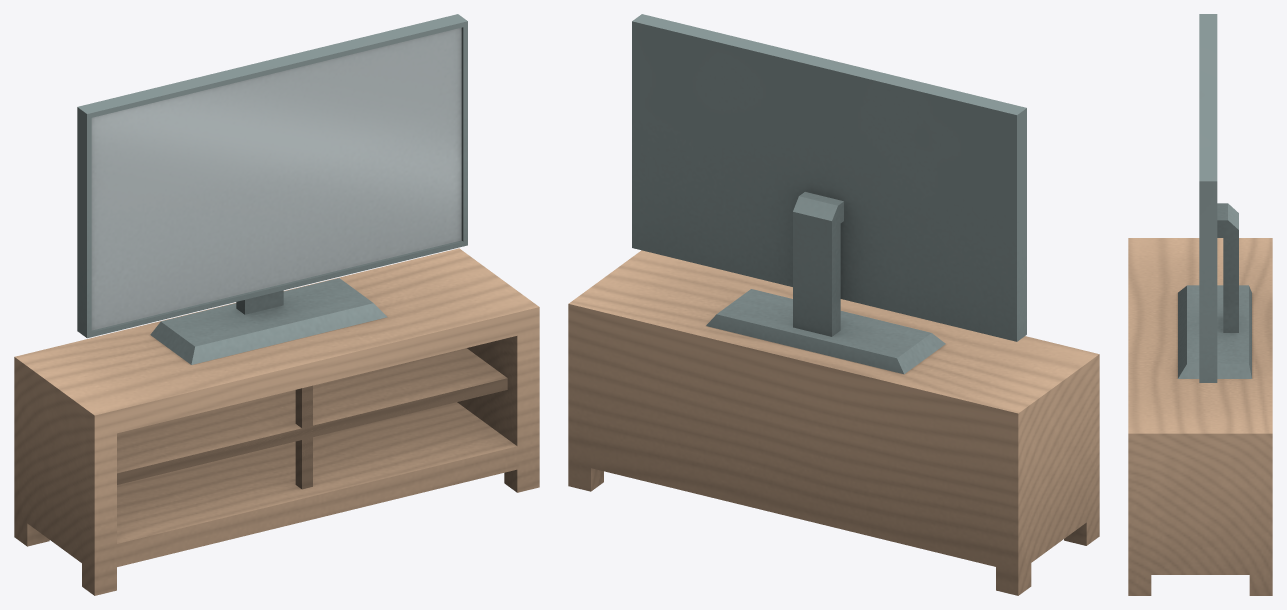
3 renders of one model, left to right at view 1: azimuth 30°, elevation 25°; view 2: azimuth 150°, elevation 25°; view 3: azimuth 270°, elevation 25°, orthographic. The views are drawn at different scales.
Visible parts, largest first — view 1: tv; view 2: tv; view 3: tv.
Boxes of the visible parts, left/top/right/bottom form: tv: left=14, top=14, right=539, bottom=595; tv: left=568, top=14, right=1099, bottom=595; tv: left=1128, top=14, right=1272, bottom=595.
Size of the model in its own units: 0.94 by 0.8986 by 0.2937.
Materials: 3 (3 with a texture image).
